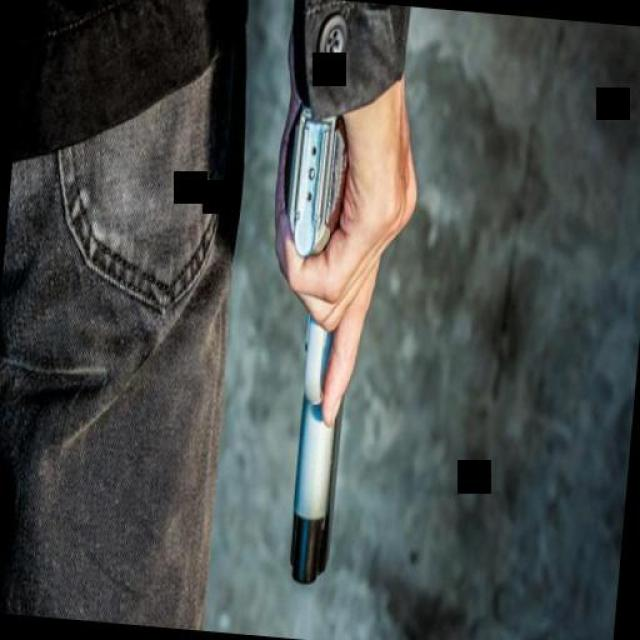gun: (252, 92, 382, 588)
